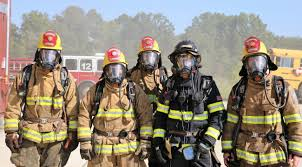emergent: (227, 37, 302, 165), (4, 29, 74, 166), (158, 38, 223, 166), (80, 46, 131, 167), (128, 36, 166, 166)
